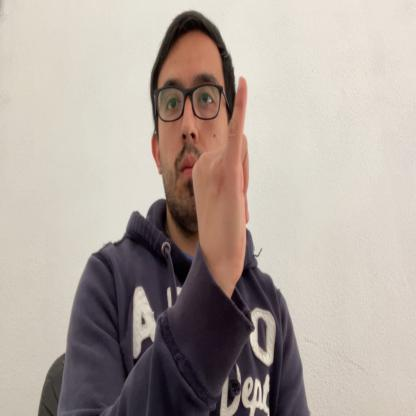I: (191, 76, 249, 286)
